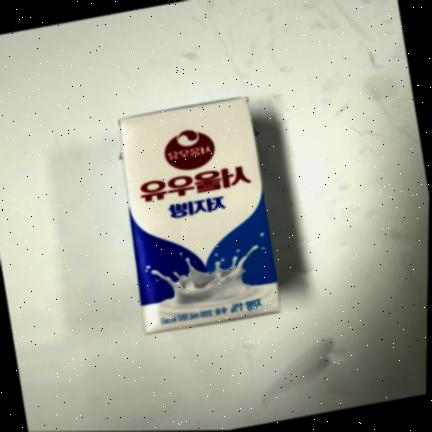milk_blue: (120, 98, 280, 334)
